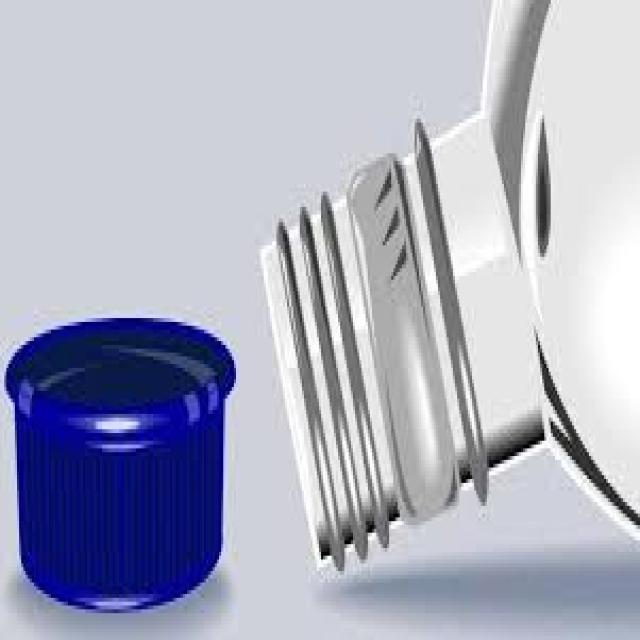plastic: (255, 0, 637, 563), (2, 314, 234, 613)
